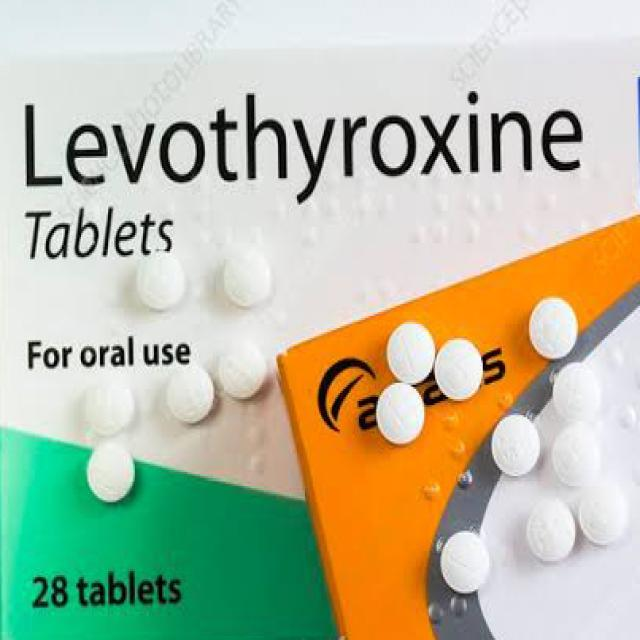drug-name: (17, 91, 586, 199)
